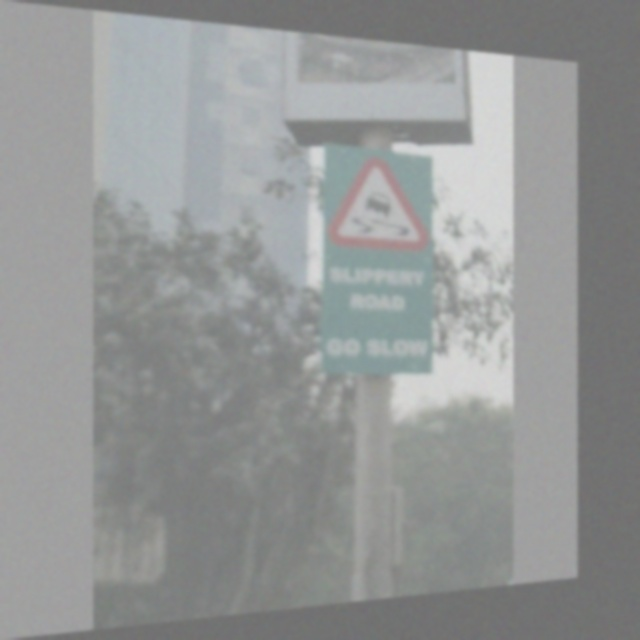Slippery_Road: (327, 156, 428, 251)
